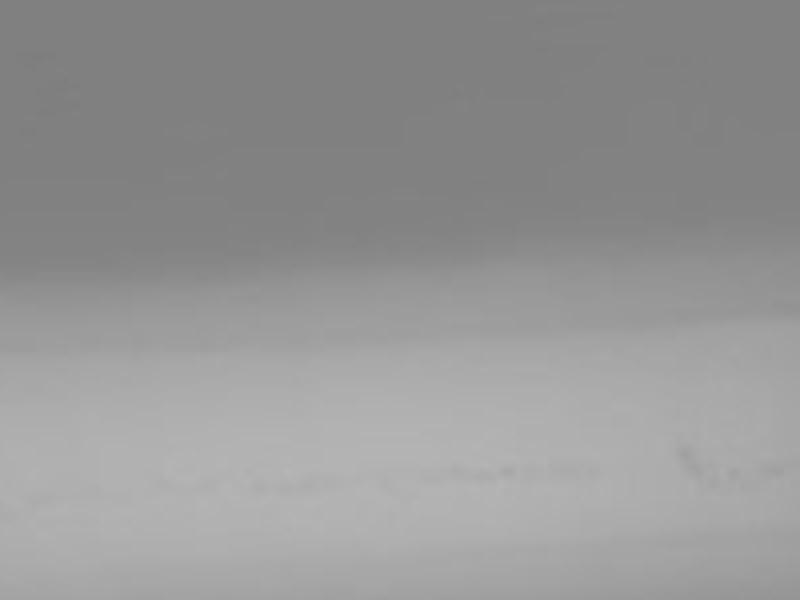defect: (494, 466, 525, 486), (719, 460, 747, 480), (682, 461, 705, 485), (704, 472, 725, 490), (677, 443, 698, 459)
